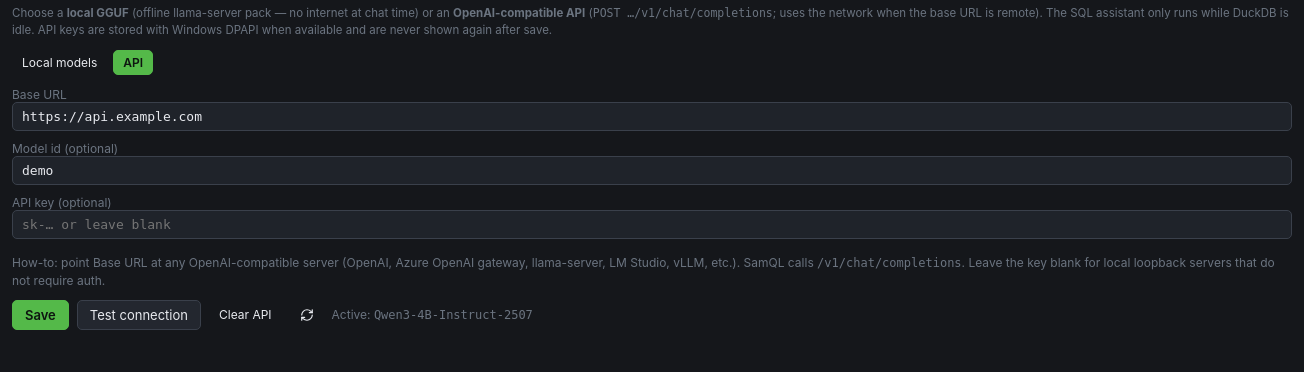
Test: AssistantModelsPanel › tests API connection
Click the button with test id "assistant-api-test" at x=139, y=314, box top-left (77, 300), bottom-right (201, 330)
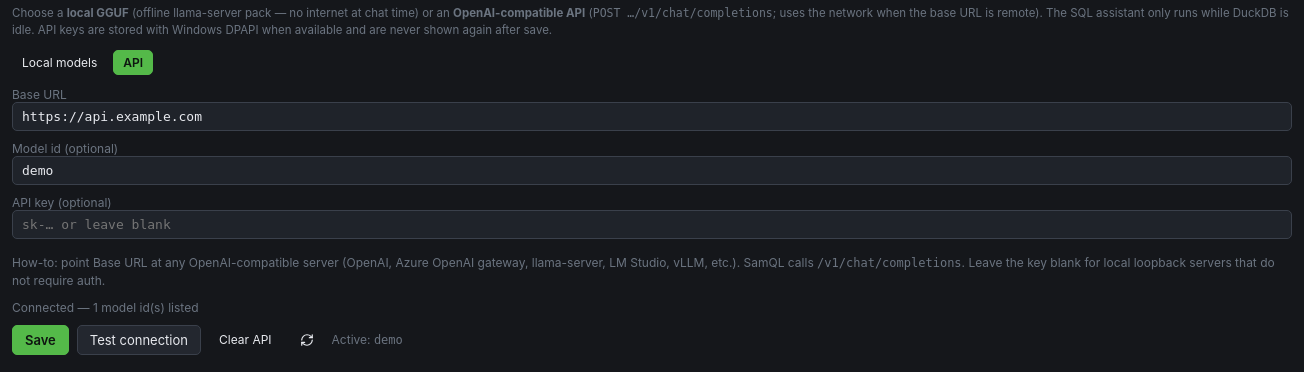
Check: the text with test id "assistant-api-probe" shows "Connected", box top-left (12, 300), bottom-right (198, 314)
